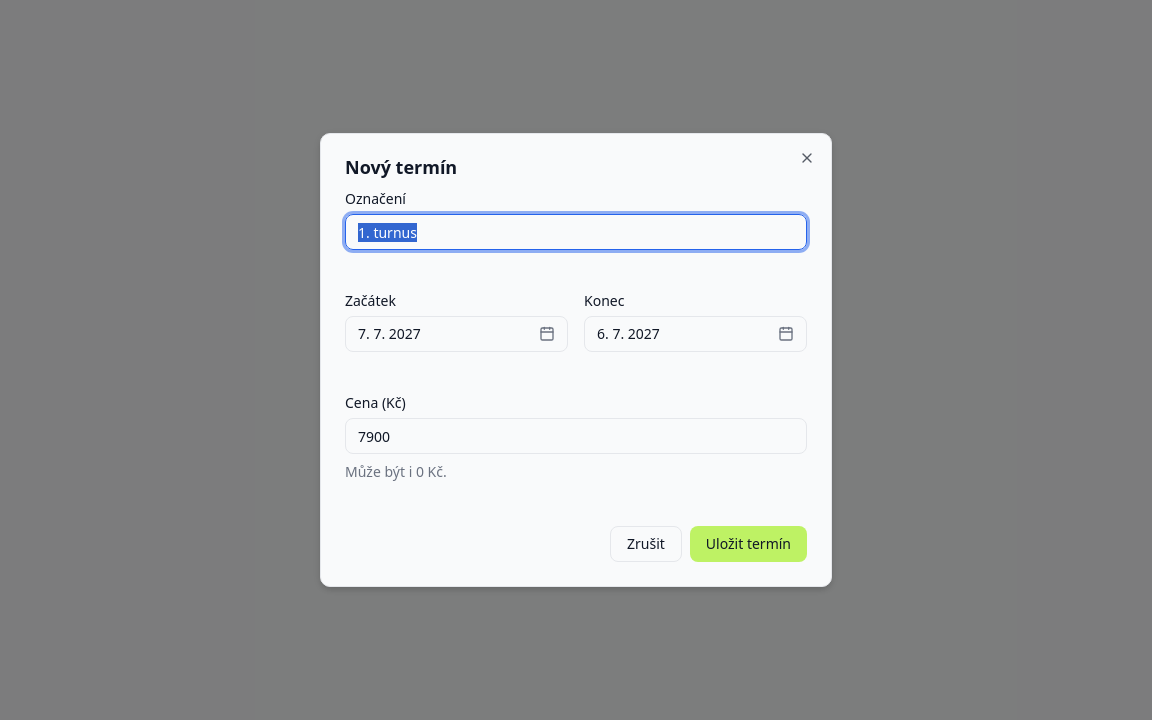
Test case: TermForm › rejects an end before the start
This screenshot has width=1152, height=720.
Click the button "Uložit termín".
click(748, 544)  # box [690,526,807,562]
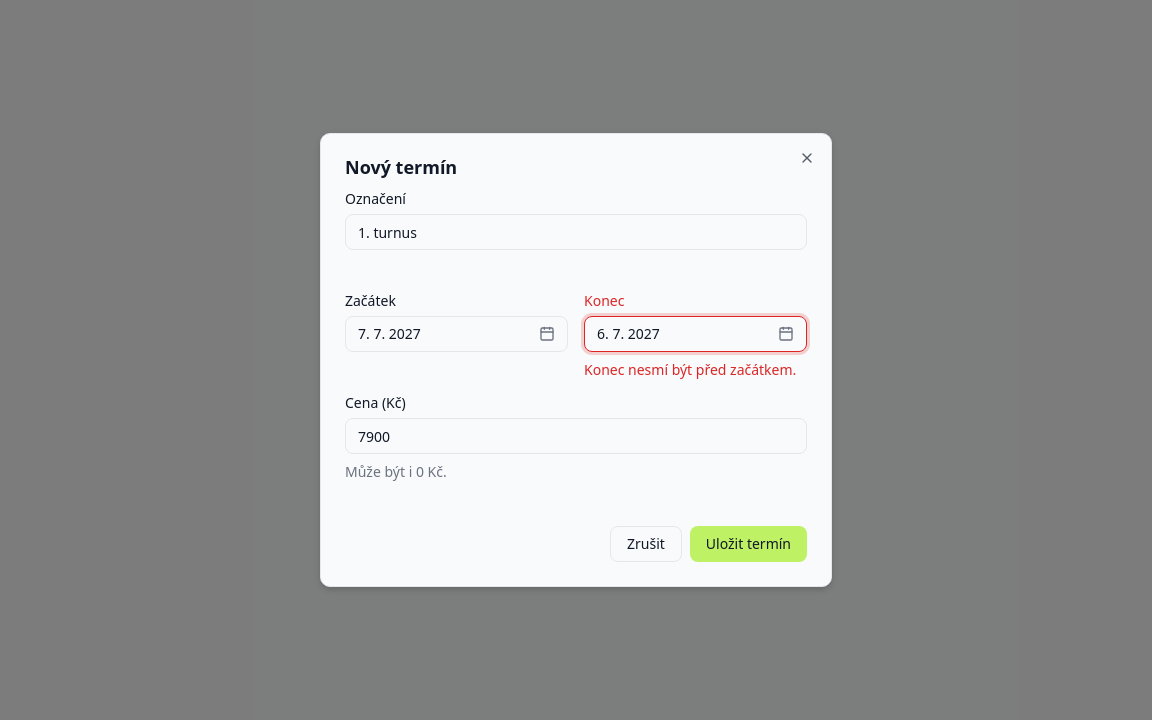
Expected: the text "Konec nesmí být před začátkem." is shown, [584,360,807,380]
